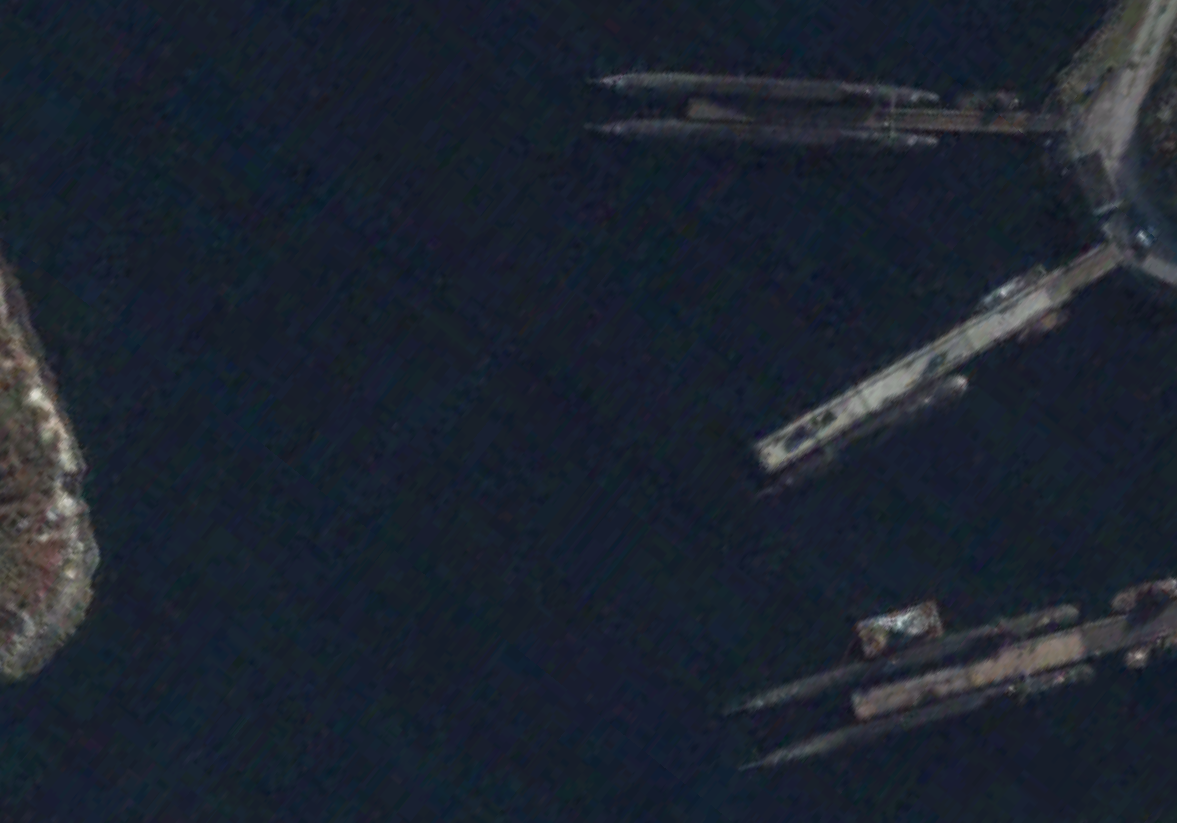merchant ship: (973, 264, 1045, 310), (1014, 304, 1074, 345)
submarine: (722, 604, 1080, 724), (736, 667, 1093, 776), (745, 376, 970, 513), (578, 69, 942, 110), (581, 120, 941, 155)
